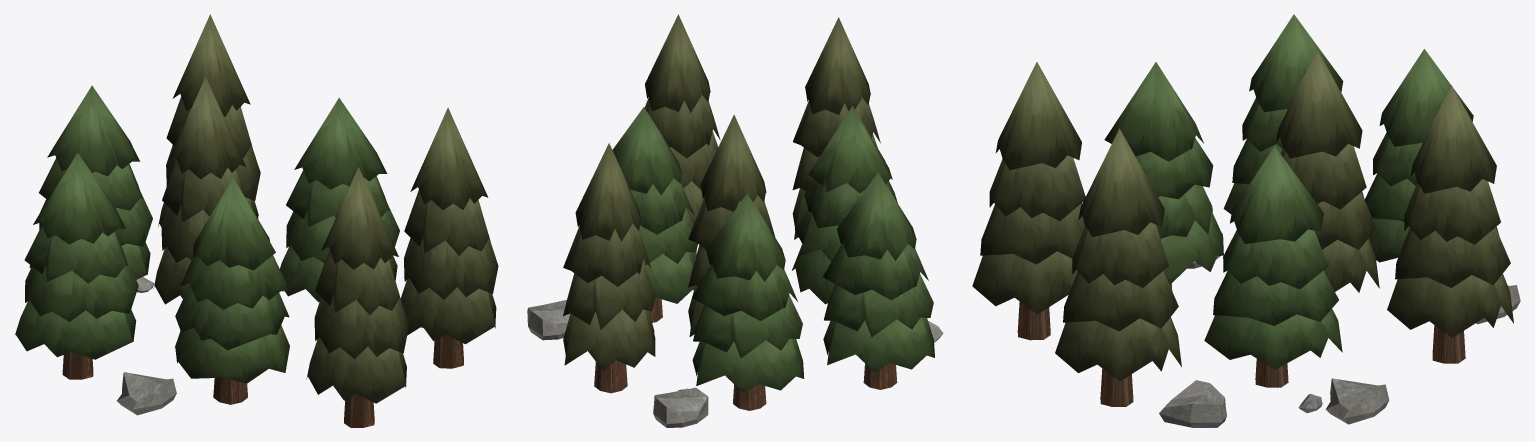
The model's file is wood.fbx.
3 renders of one model, left to right at view 1: azimuth 30°, elevation 25°; view 2: azimuth 150°, elevation 25°; view 3: azimuth 270°, elevation 25°, orthographic. The views are drawn at different scales.
Parts seen in each view (by area): view 1: Grp2; view 2: Grp2; view 3: Grp2.
Part boxes in pixels (x1,y1,x2,y2): Grp2: [15, 14, 498, 427]; Grp2: [527, 14, 943, 427]; Grp2: [972, 14, 1520, 427].
Size of the model in its own units: 86.6 by 52.13 by 95.22.
